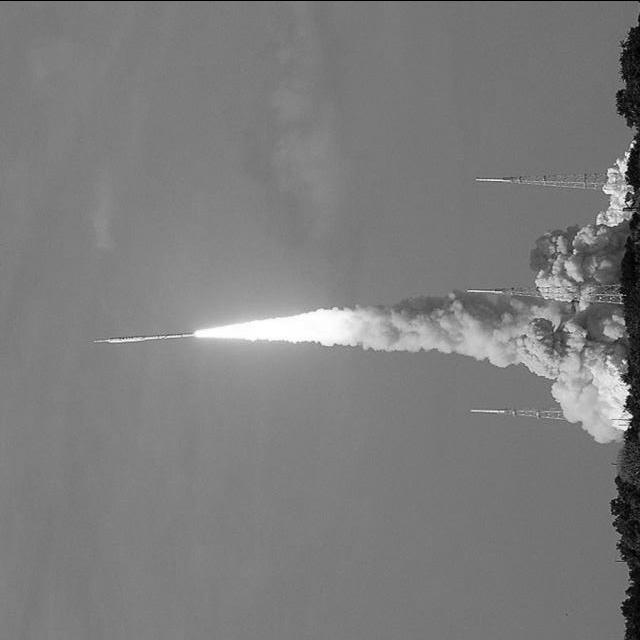Missile: (90, 330, 194, 344), (472, 173, 520, 186), (464, 286, 504, 296), (468, 408, 510, 416)
